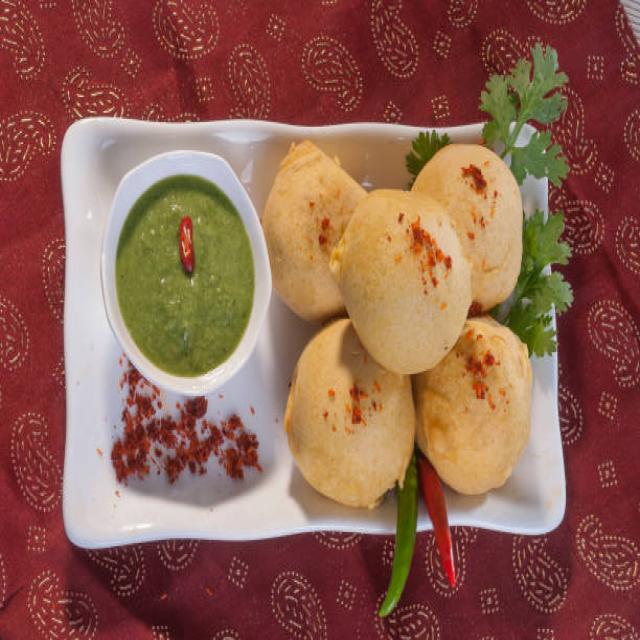BONDA: (265, 138, 538, 504)
GREEN CHUTNEY: (116, 176, 253, 369)
